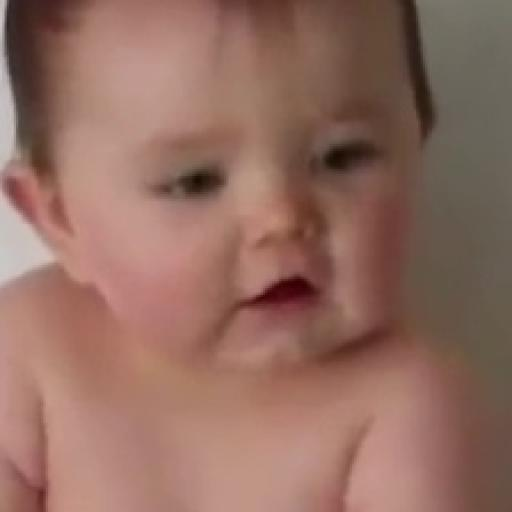Autism: (19, 9, 491, 413)
